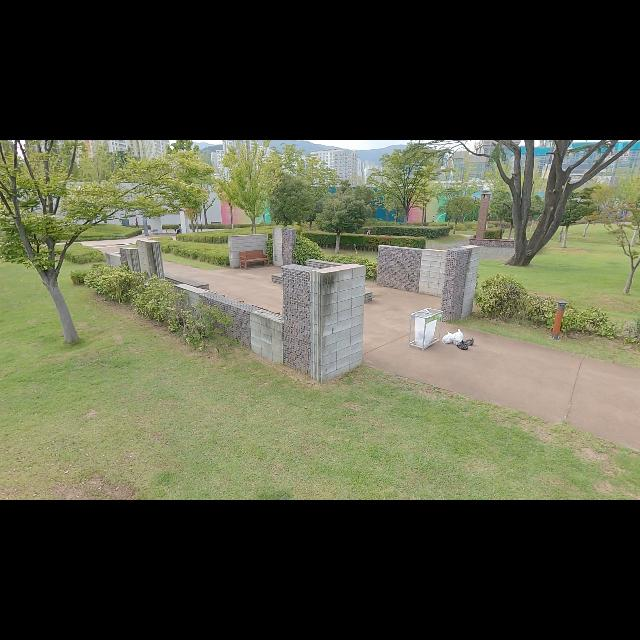trash: (442, 332, 456, 344), (452, 328, 464, 342), (455, 340, 469, 350), (452, 336, 462, 346), (466, 338, 474, 346)
